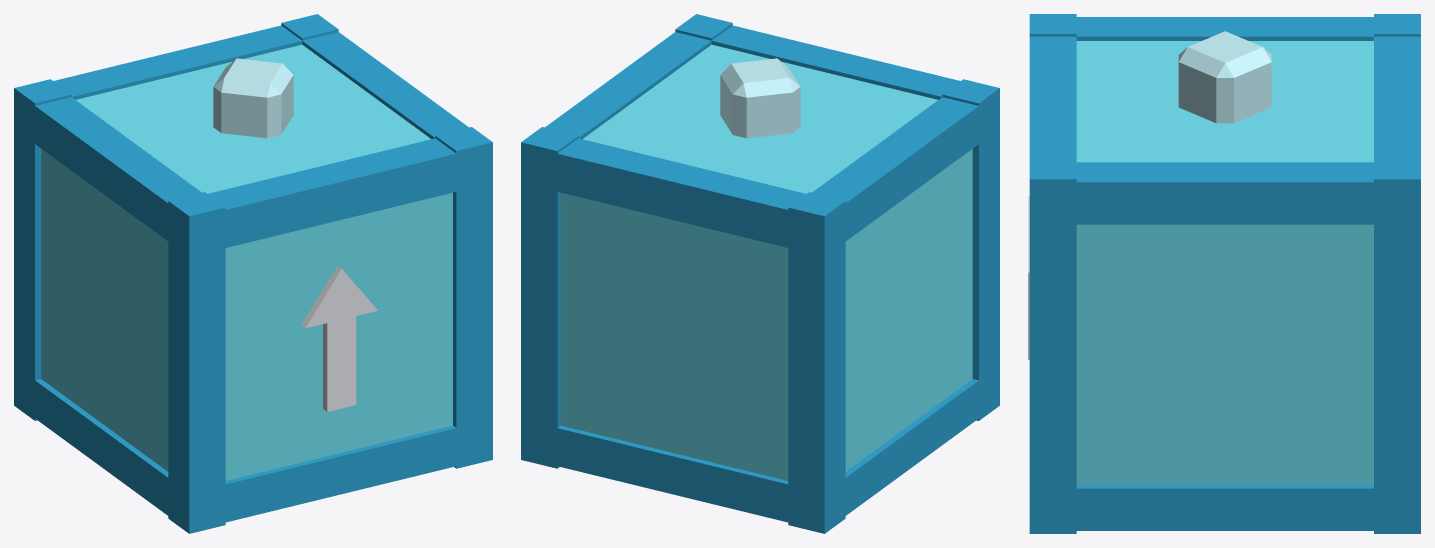
Rendered from DiamondLootCrate.fbx.
The picture shows the model from 3 angles, left to right: view 1: azimuth 30°, elevation 25°; view 2: azimuth 150°, elevation 25°; view 3: azimuth 270°, elevation 25°; orthographic projection. The views are drawn at different scales.
Parts seen in each view (by area): view 1: DiamondLootCrate; view 2: DiamondLootCrate; view 3: DiamondLootCrate.
Boxes of the visible parts, x1,y1,x2,y2 form: DiamondLootCrate: (14, 14, 492, 533); DiamondLootCrate: (521, 14, 999, 533); DiamondLootCrate: (1028, 14, 1420, 533).
Bounding box in the file's own units: 2.5 × 2.85 × 2.51.
1 material, 1 textured.
